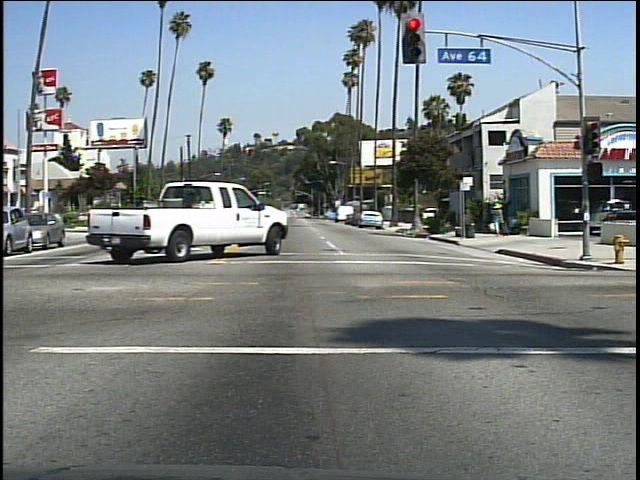person: (486, 196, 512, 242)
